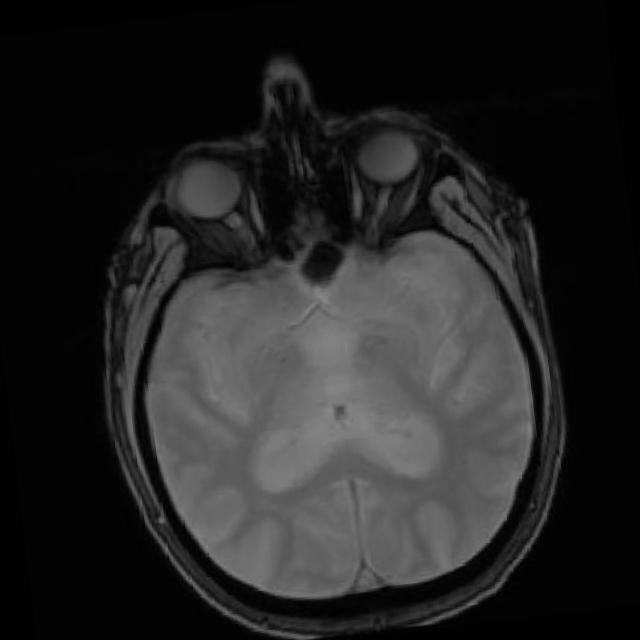LMCI: (314, 220, 338, 258)
